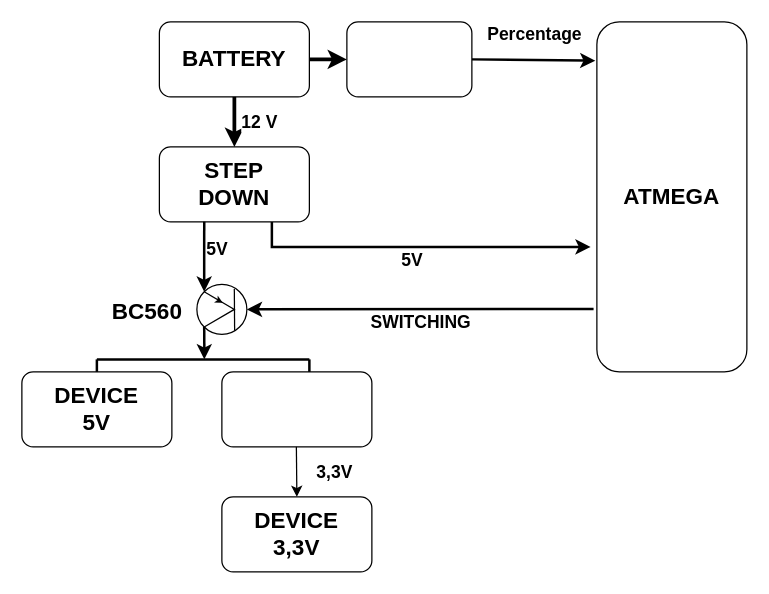
Image size: 769x594. Some labels were removed from this diagram. The centre of each missing label's shape, as x and y in pixels:
"AMS1117" goes at (296,409).
"VOLTAGE DIVIDER" goes at (409,59).
